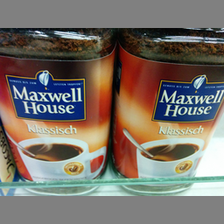coffee: (1, 28, 115, 193), (111, 28, 224, 194)
